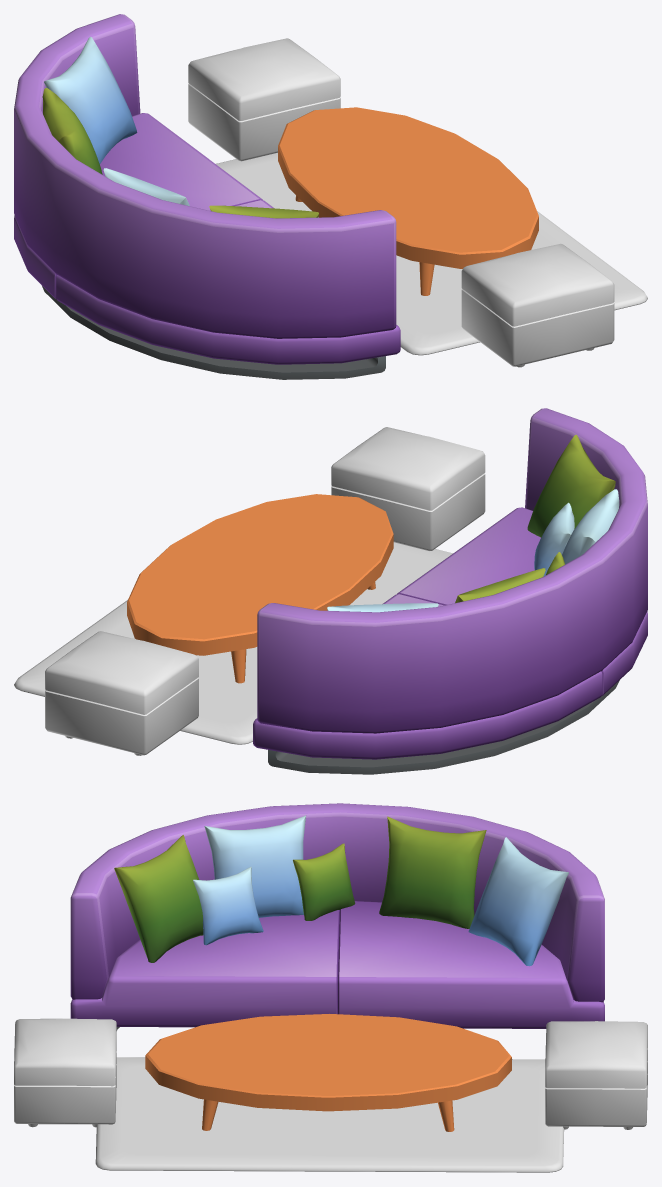
Rendered from Sofa set 02.fbx.
3 views of the same model, one above another, from view 1: azimuth 30°, elevation 25°; view 2: azimuth 150°, elevation 25°; view 3: azimuth 270°, elevation 25° (orthographic). The views are drawn at different scales.
Parts seen in each view (by area): view 1: Sofa_1_Orange_Set_LivingRoom_0.001, Table_4.001_LivingRoom_0.001, Chair_2_Orange.002_LivingRoom_0.001, Chair_2_Orange.001_LivingRoom_0.001, Plane.056_LivingRoom_0.001; view 2: Sofa_1_Orange_Set_LivingRoom_0.001, Table_4.001_LivingRoom_0.001, Chair_2_Orange.001_LivingRoom_0.001, Chair_2_Orange.002_LivingRoom_0.001, Plane.056_LivingRoom_0.001; view 3: Sofa_1_Orange_Set_LivingRoom_0.001, Plane.056_LivingRoom_0.001, Table_4.001_LivingRoom_0.001, Chair_2_Orange.002_LivingRoom_0.001, Chair_2_Orange.001_LivingRoom_0.001.
Part boxes in pixels (x1=…): Sofa_1_Orange_Set_LivingRoom_0.001: x1=14, y1=14, x2=400, y2=379; Table_4.001_LivingRoom_0.001: x1=278, y1=107, x2=538, y2=295; Chair_2_Orange.002_LivingRoom_0.001: x1=461, y1=243, x2=614, y2=367; Chair_2_Orange.001_LivingRoom_0.001: x1=188, y1=38, x2=340, y2=161; Plane.056_LivingRoom_0.001: x1=216, y1=153, x2=647, y2=355; Sofa_1_Orange_Set_LivingRoom_0.001: x1=253, y1=408, x2=647, y2=774; Table_4.001_LivingRoom_0.001: x1=127, y1=494, x2=393, y2=683; Chair_2_Orange.001_LivingRoom_0.001: x1=45, y1=631, x2=198, y2=755; Chair_2_Orange.002_LivingRoom_0.001: x1=331, y1=427, x2=485, y2=550; Plane.056_LivingRoom_0.001: x1=14, y1=542, x2=452, y2=744; Sofa_1_Orange_Set_LivingRoom_0.001: x1=70, y1=803, x2=604, y2=1030; Plane.056_LivingRoom_0.001: x1=95, y1=1057, x2=564, y2=1172; Table_4.001_LivingRoom_0.001: x1=145, y1=1014, x2=511, y2=1131; Chair_2_Orange.002_LivingRoom_0.001: x1=14, y1=1018, x2=116, y2=1127; Chair_2_Orange.001_LivingRoom_0.001: x1=545, y1=1021, x2=647, y2=1129.
Bounding box in the file's own units: 344 × 117 × 419.
Materials: 2 (1 with a texture image).
